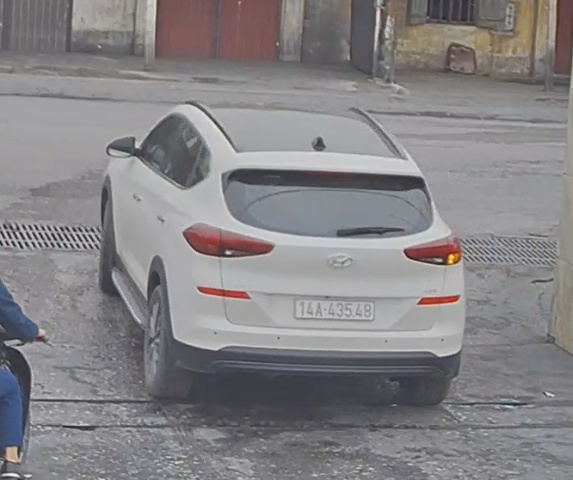vehicle plate: (293, 295, 378, 321)
